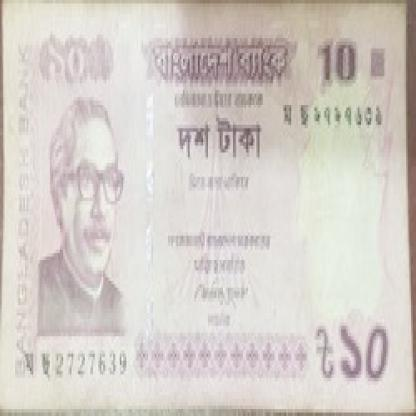Ten Taka: (338, 316, 398, 395), (35, 28, 105, 94), (318, 28, 363, 90)
